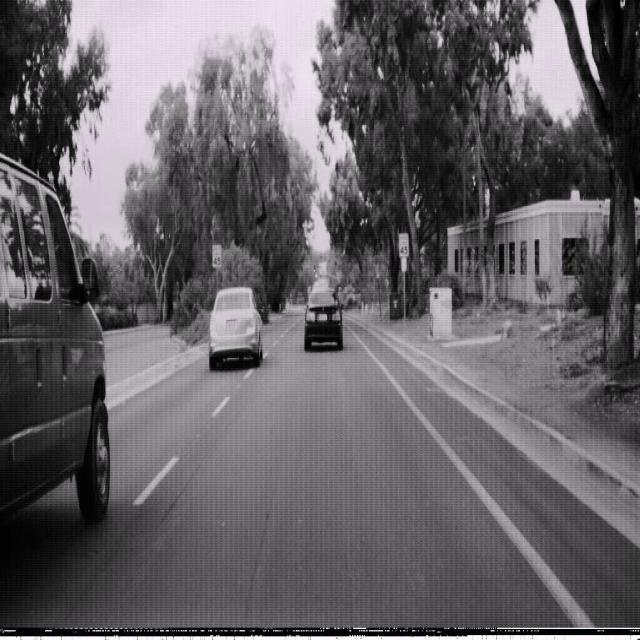speedLimit45: (398, 232, 409, 257), (211, 243, 222, 268)
